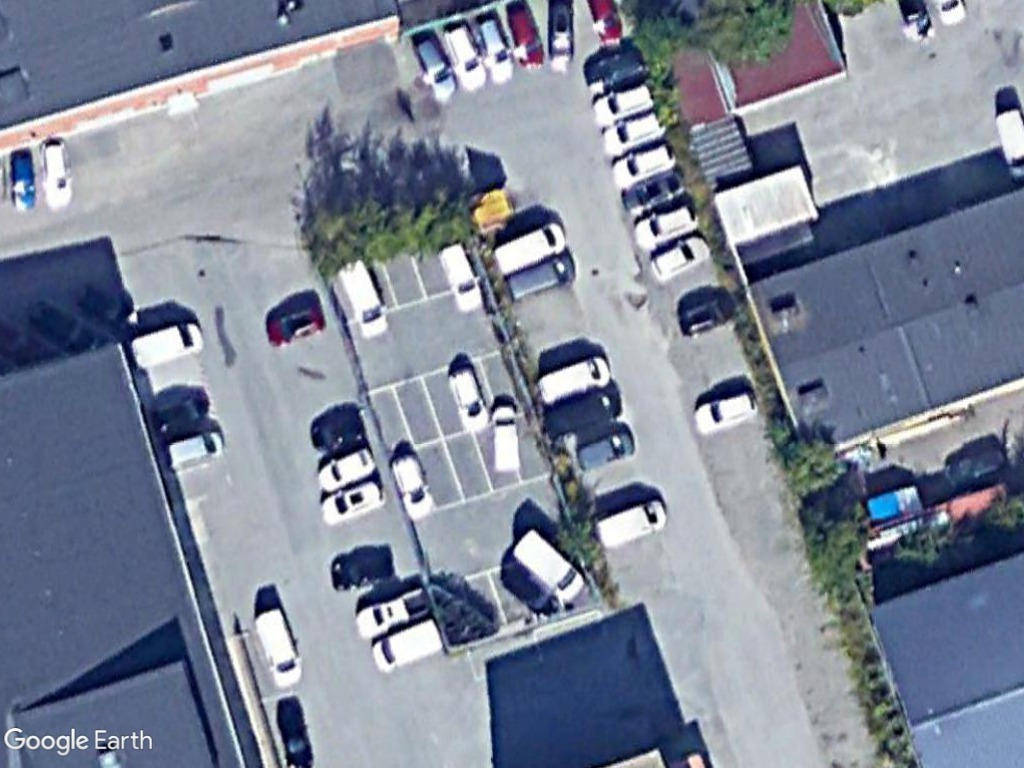car: (404, 25, 463, 106), (641, 229, 718, 290), (688, 381, 764, 441), (629, 194, 702, 256), (316, 472, 390, 531), (609, 136, 681, 194), (599, 106, 669, 164), (387, 444, 437, 525), (438, 17, 489, 96), (311, 438, 381, 495), (589, 74, 659, 131), (35, 130, 77, 223), (470, 8, 517, 90), (569, 424, 639, 478), (444, 361, 491, 441), (262, 296, 331, 349), (675, 289, 745, 339), (497, 0, 547, 70), (4, 141, 45, 217)
van: (507, 522, 592, 604), (365, 613, 448, 677), (331, 255, 391, 343), (250, 603, 306, 693), (533, 348, 616, 406), (124, 318, 210, 372), (593, 494, 674, 551), (490, 220, 569, 277), (435, 240, 487, 320), (163, 425, 232, 474), (486, 398, 520, 480)
